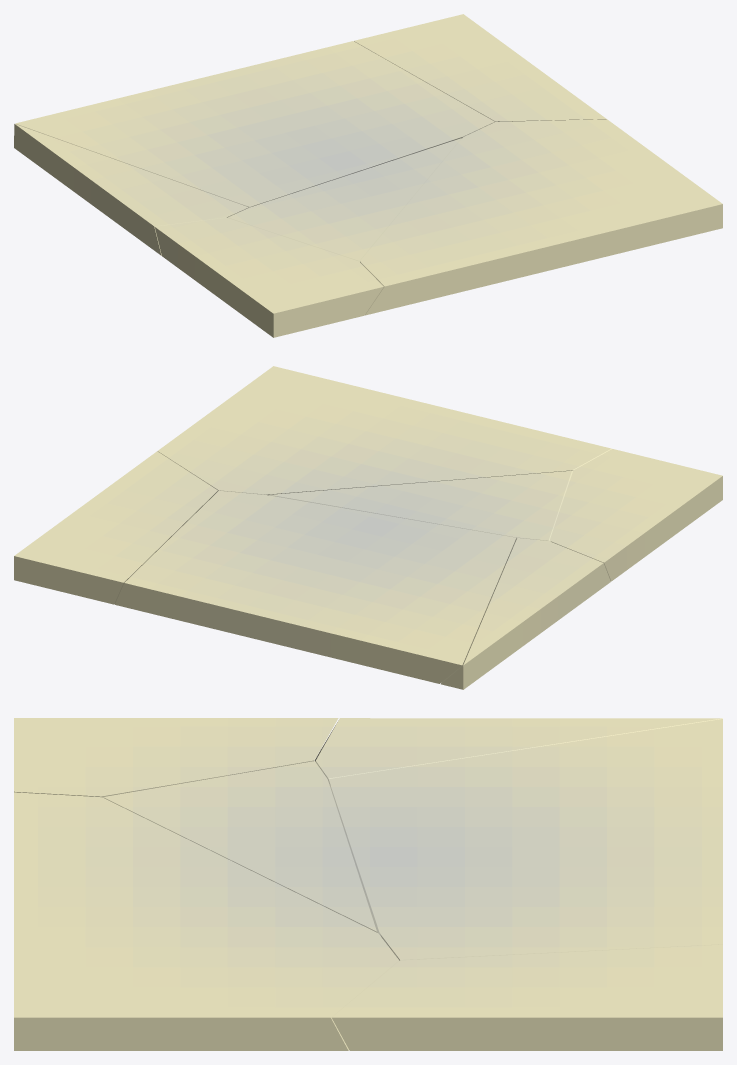
Rendered from squidgame_props_glassbridge_glass_broken.fbx.
3 renders of one model, top to bottom at view 1: azimuth 30°, elevation 25°; view 2: azimuth 150°, elevation 25°; view 3: azimuth 270°, elevation 25°, orthographic. The views are drawn at different scales.
Visible parts, largest first — view 1: squidgame_props_glassbridge_glass_broken; view 2: squidgame_props_glassbridge_glass_broken; view 3: squidgame_props_glassbridge_glass_broken.
Part boxes in pixels (x1,y1,x2,y2): squidgame_props_glassbridge_glass_broken: (14,14,722,337); squidgame_props_glassbridge_glass_broken: (14,366,722,689); squidgame_props_glassbridge_glass_broken: (14,718,722,1050).
Bounding box in the file's own units: 1.3 × 0.067 × 1.3.
